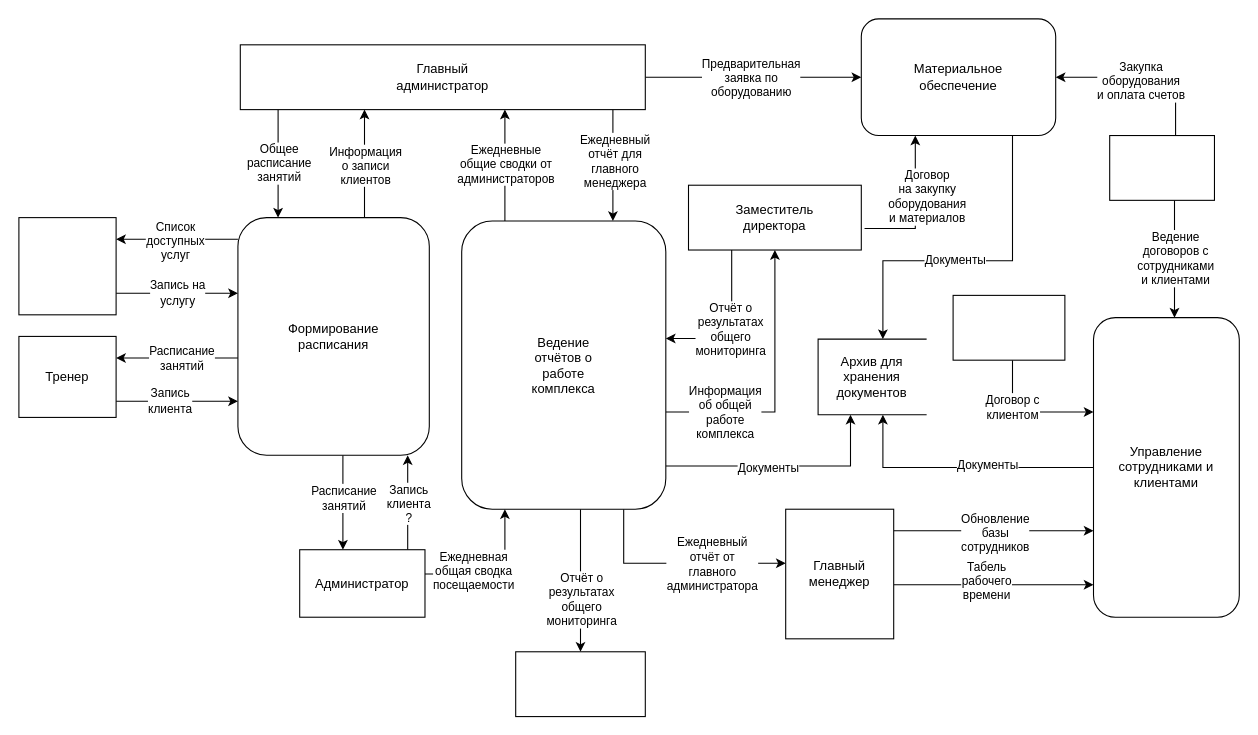
Image size: 1258x735. Some labels were removed from this diagram. Here are the shapes that lost their labels. From the top down, the centre of each, then its label:
At point 1161,167: "Бухгалтер".
At point 67,266: "Клиент".
At point 1008,327: "Менеджер".
At point 580,684: "Директор".
